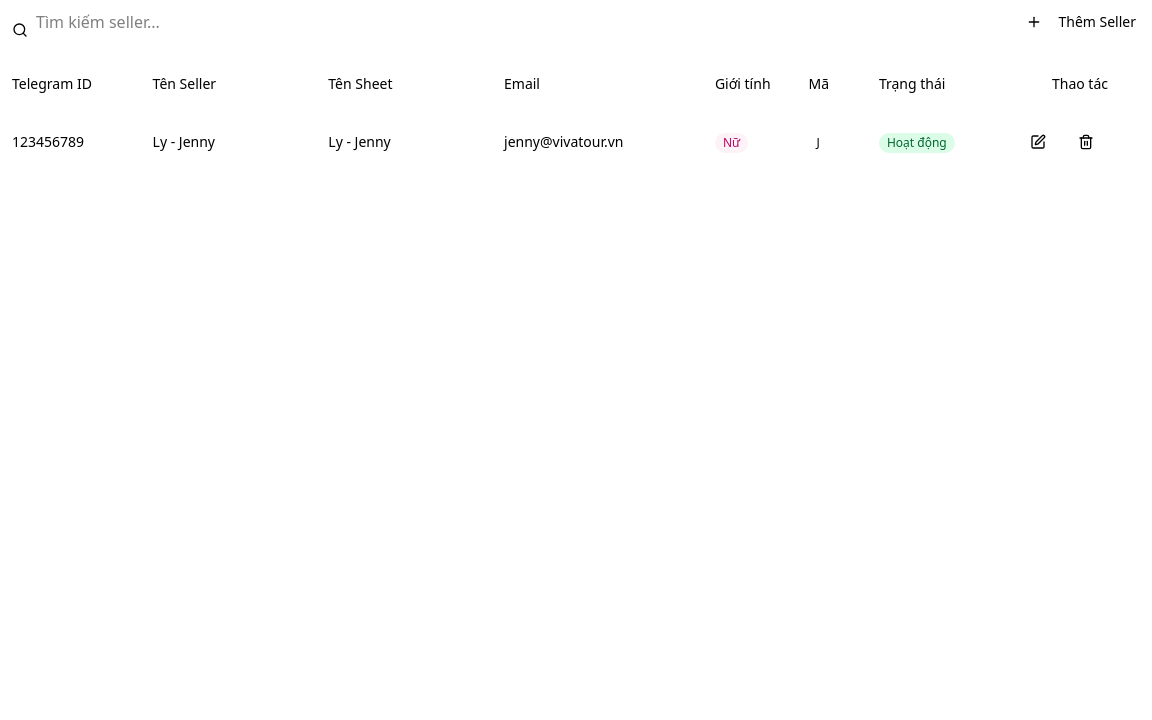
Test case: SellerTable › CRUD Operations › opens modal in edit mode on edit click
Click the button titled "Sửa" at coordinates (1038, 142), box top-left (1016, 120), bottom-right (1060, 164)
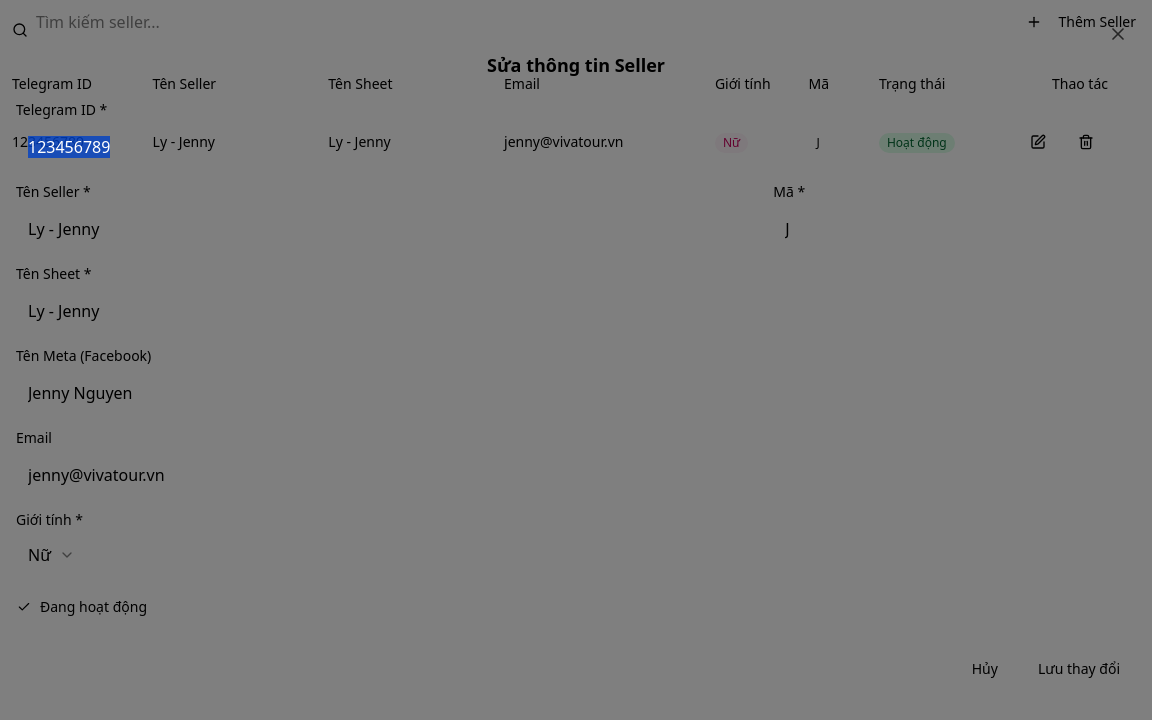
Now the heading "Sửa thông tin Seller" is shown, box top-left (487, 53), bottom-right (665, 77)
Now the field showing "123456789" is shown, box top-left (16, 125), bottom-right (1136, 169)
